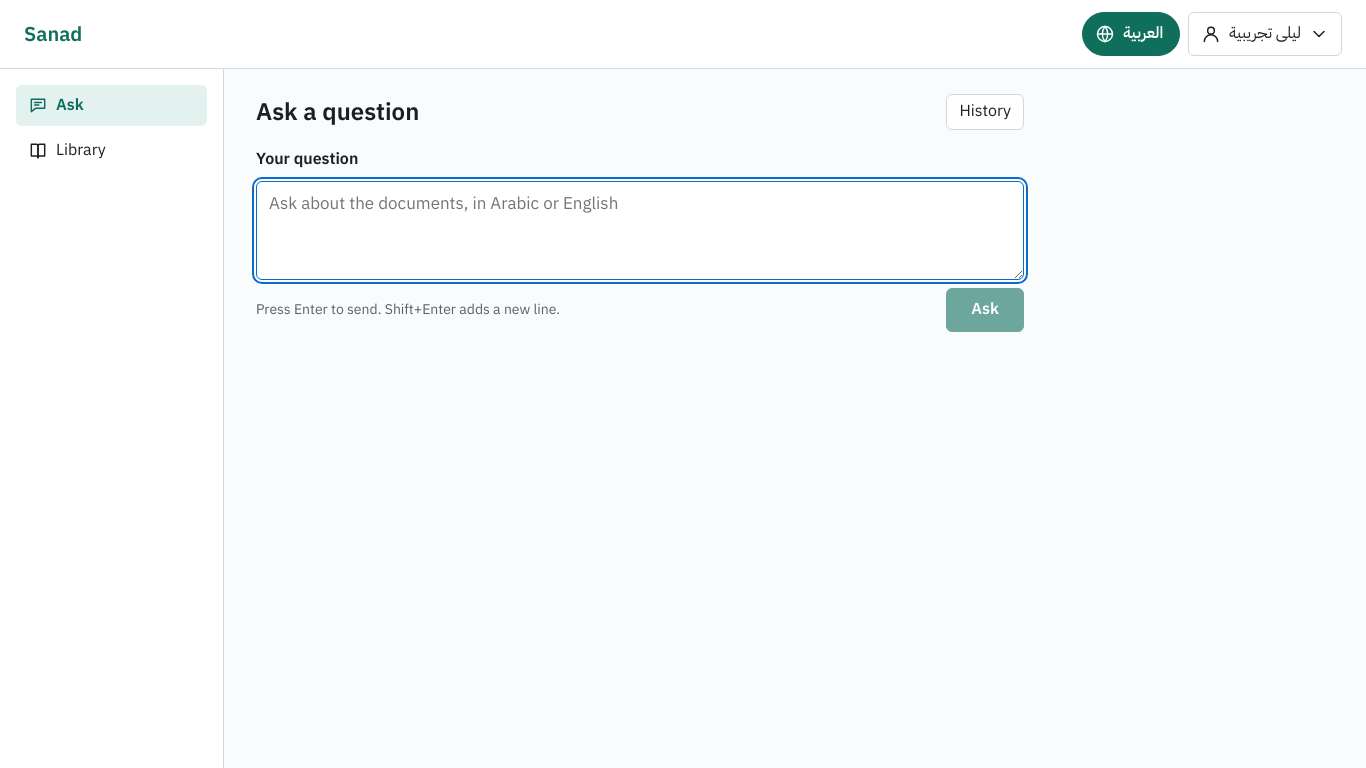
Scenario: switching language while signed in › ignores a failed save (404 until B2 lands): no message, the switch still happens
Check: the heading "Ask a question" is shown, box [256,93,419,131]
What coordinates should you click on to do the following:
click the button "العربية"
I would click on:
 (1131, 34)
Its box is [1082,12,1180,56].
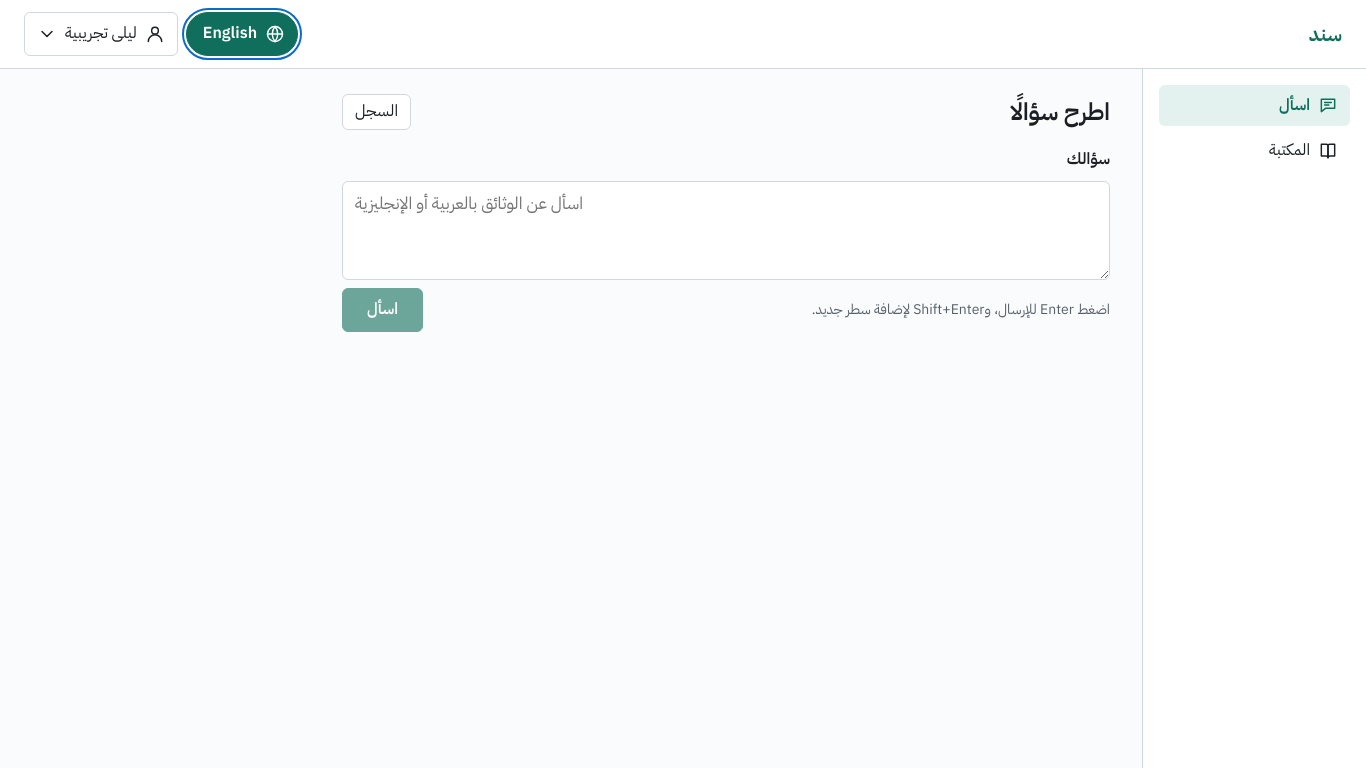
Check: the heading "اطرح سؤالًا" is shown, box [1010,93,1110,131]
